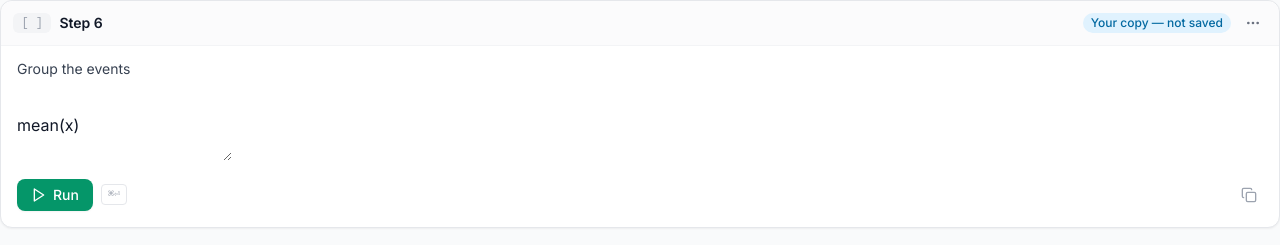
Test: NotebookCell scratch copies › marks a scratch cell as unsaved and offers to discard it
Expected: the text "Your copy — not saved" is shown, left=1083, top=13, right=1231, bottom=33
Click the button named "Cell actions" at (1253, 23), box left=1239, top=9, right=1267, bottom=37
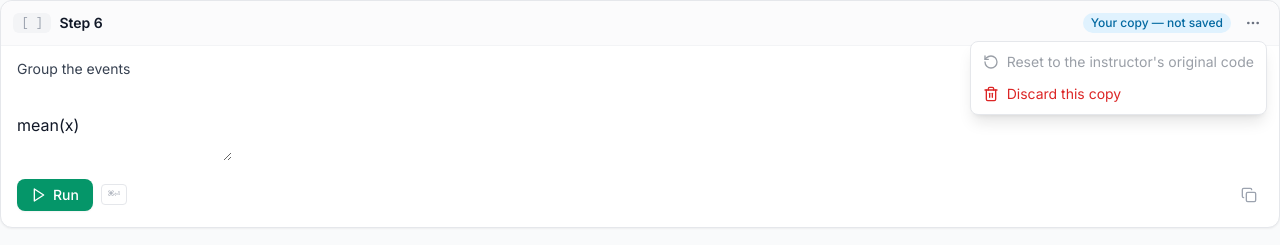
Expected: the text "Discard this copy" is shown, left=1007, top=84, right=1121, bottom=104
